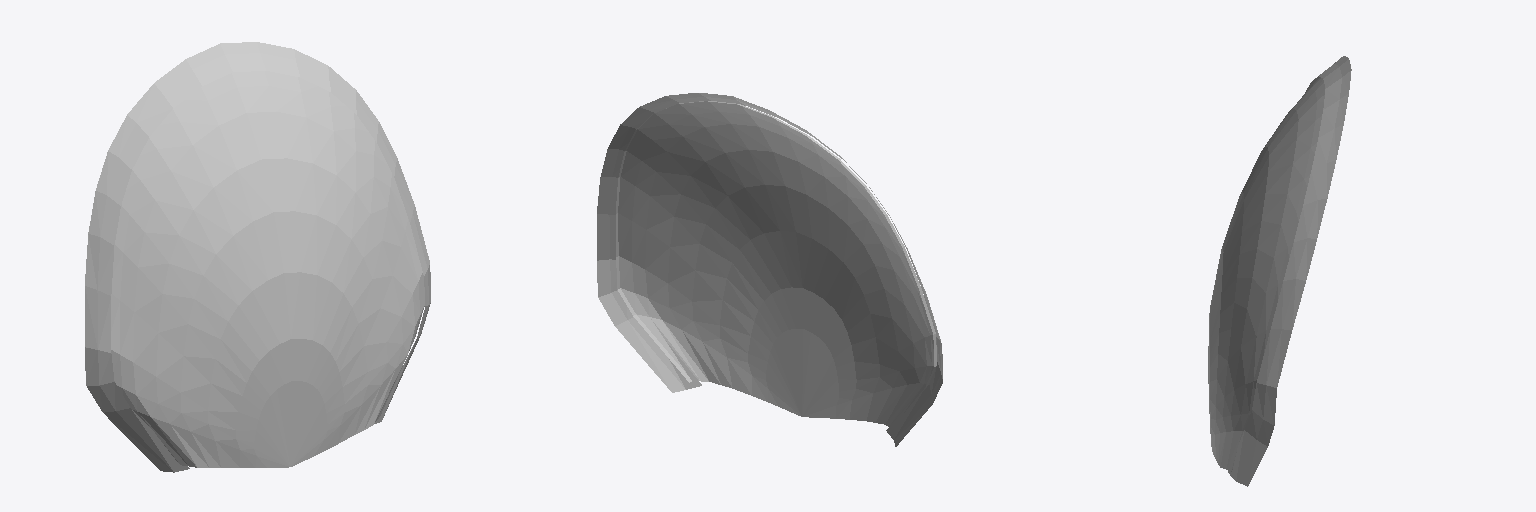
Rendered from Dep_Cover_Shield.obj.
3 views of the same model, side by side, from view 1: azimuth 30°, elevation 25°; view 2: azimuth 150°, elevation 25°; view 3: azimuth 270°, elevation 25° (orthographic).
Parts seen in each view (by area): view 1: shield:default; view 2: shield:default; view 3: shield:default.
Part boxes in pixels (x1,y1,x2,y2): shield:default: (85,42,430,472); shield:default: (597,93,942,446); shield:default: (1208,56,1351,486).
Size of the model in its own units: 2.69 by 2.77 by 0.967.